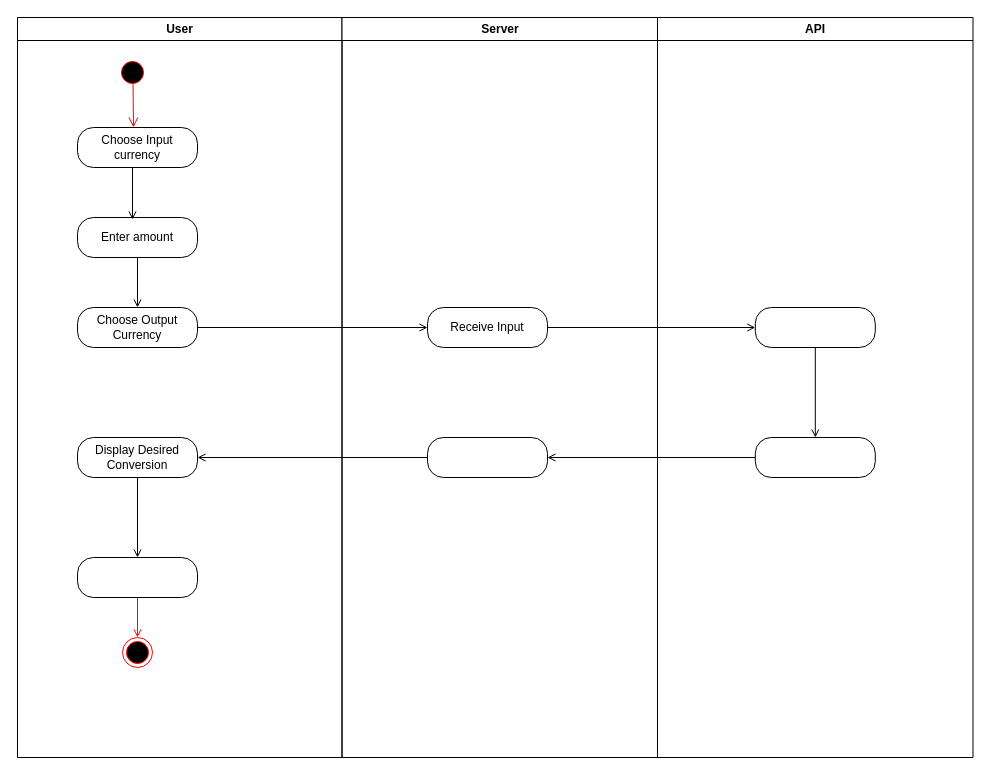
This 991x775 diagram has some shape labels left out. The shapes that lost their labels are listed below. From the top down, each one's centre as x and y in pixels, then its label:
point 814,327: Request for Conversion
point 487,457: Calculate Conversion
point 814,457: Send Conversion Rates
point 137,577: Display result
